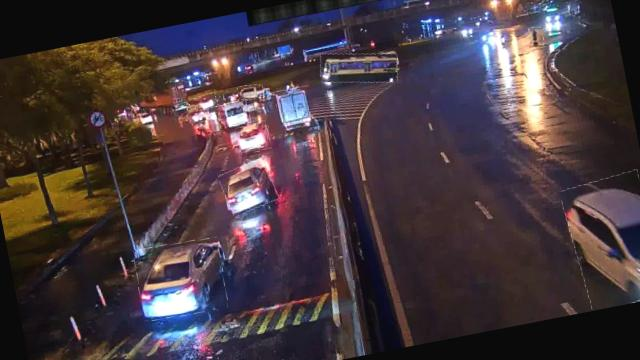Bike: (528, 26, 544, 48)
Bus: (318, 43, 400, 92), (272, 84, 316, 132), (216, 98, 252, 128)
Car: (561, 169, 640, 311), (131, 234, 229, 322), (219, 158, 279, 215), (234, 120, 271, 154), (237, 81, 265, 102), (187, 103, 211, 124), (194, 93, 218, 112)
